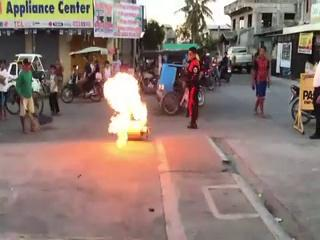Fire: (104, 72, 149, 146)
